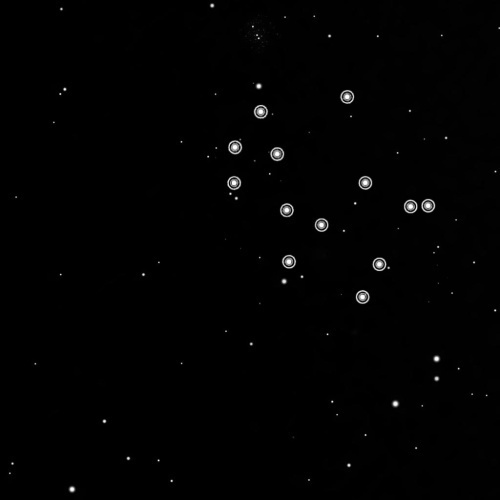gemini: (221, 88, 440, 308)
